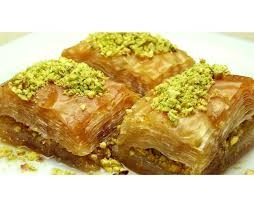baklava: (0, 56, 138, 171), (114, 61, 254, 174), (66, 31, 188, 89)
